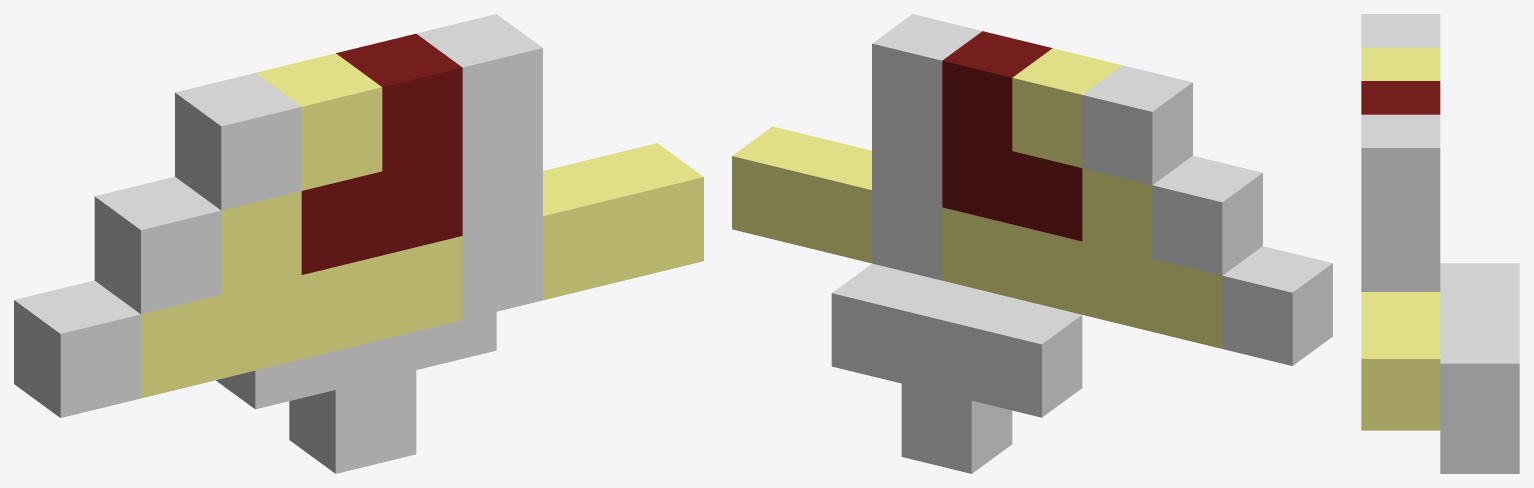
Rendered from YellowHouseParts-84.obj.
The picture shows the model from 3 angles, left to right: view 1: azimuth 30°, elevation 25°; view 2: azimuth 150°, elevation 25°; view 3: azimuth 270°, elevation 25°; orthographic projection. The views are drawn at different scales.
Bounding box in the file's own units: 0.8 × 0.5 × 0.2.
Materials: 1 (1 with a texture image).
